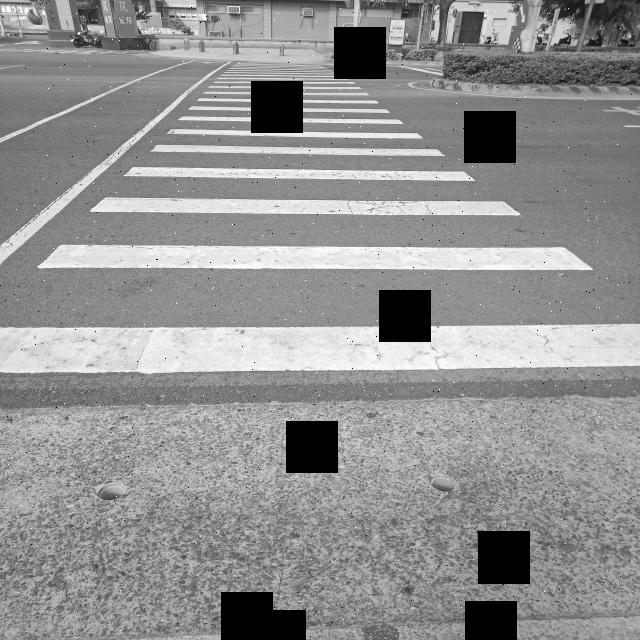zebra crossing: (17, 70, 631, 374)
